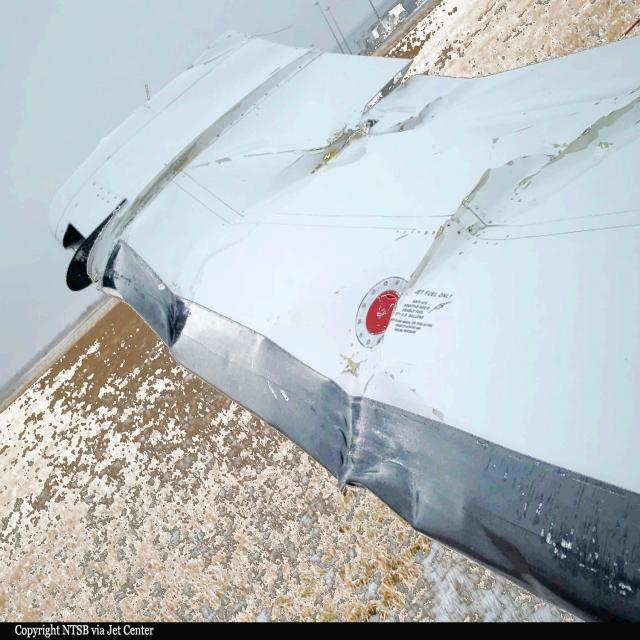crack: (398, 102, 640, 298), (317, 61, 420, 176)
